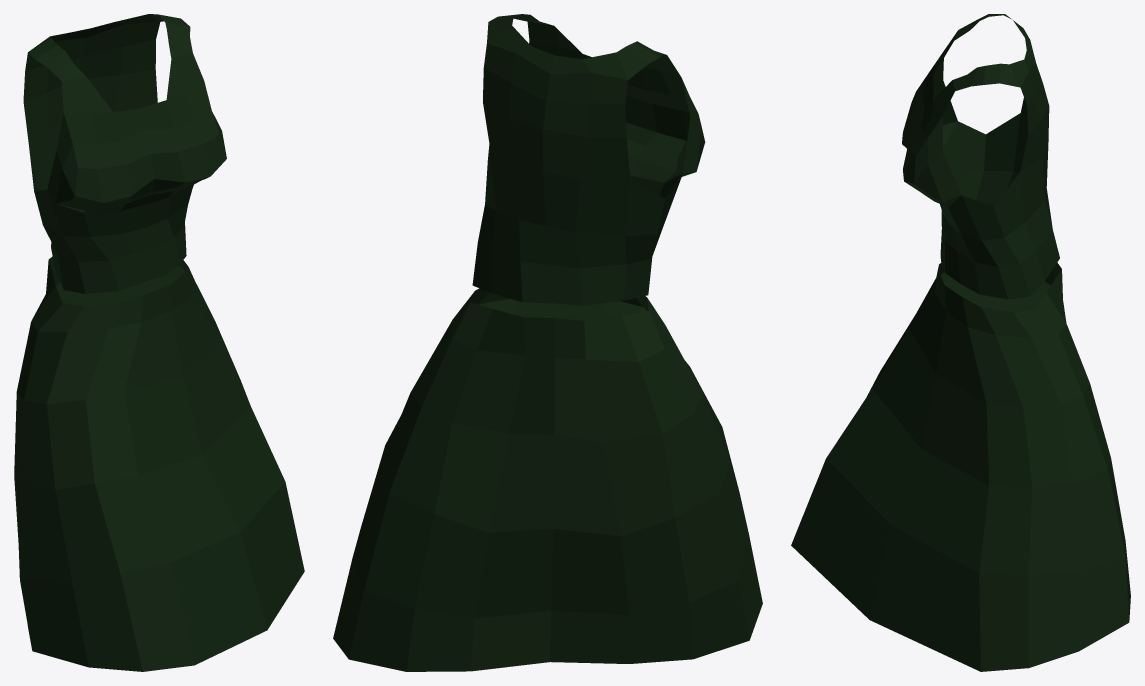
The model's file is LimeGreen.obj.
The picture shows the model from 3 angles, left to right: view 1: azimuth 30°, elevation 25°; view 2: azimuth 150°, elevation 25°; view 3: azimuth 270°, elevation 25°; orthographic projection. The views are drawn at different scales.
Bounding box in the file's own units: 0.4731 × 0.8338 × 0.4702.
